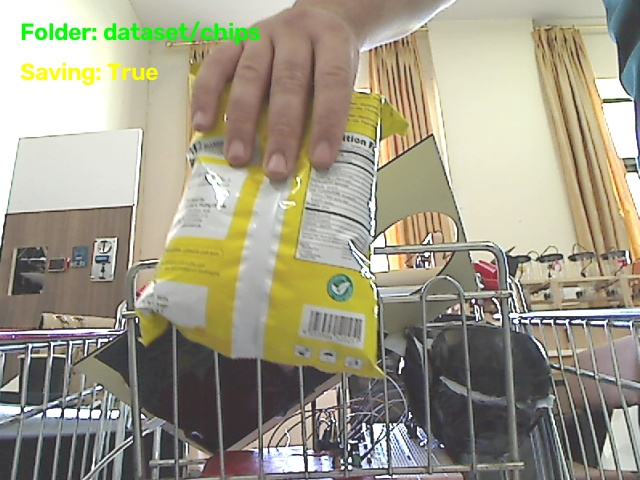chips: (136, 92, 406, 376)
